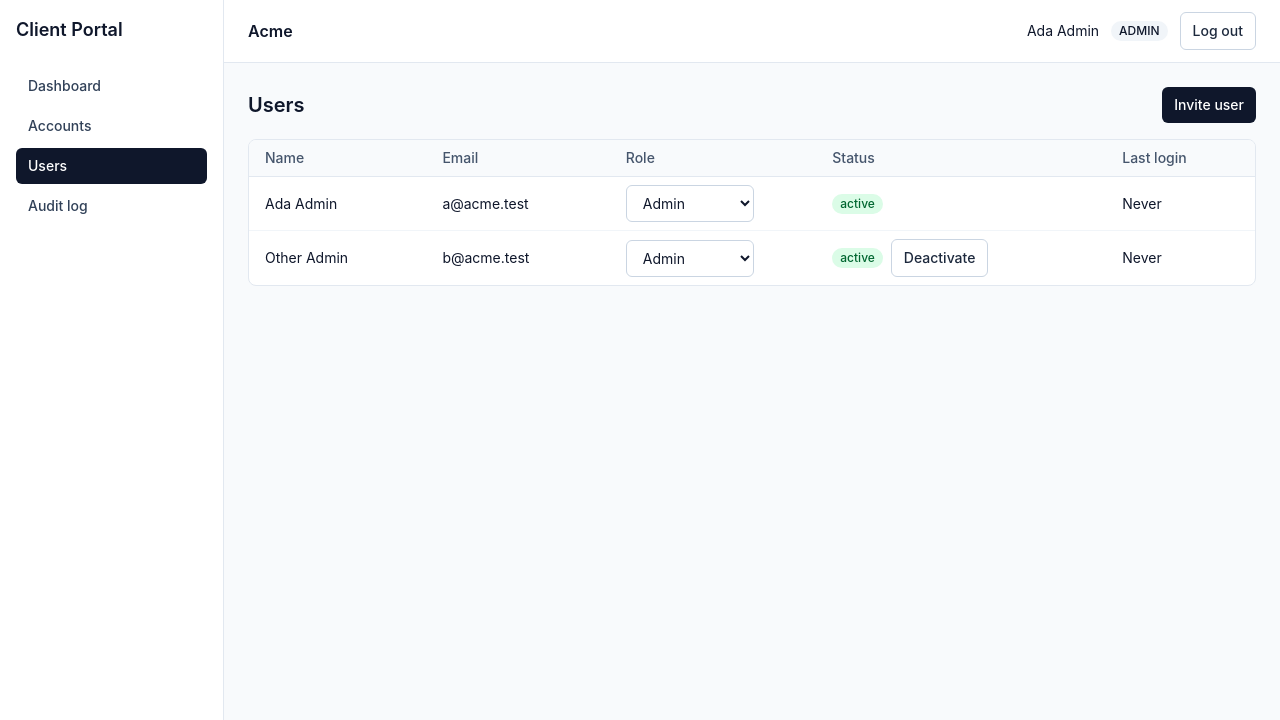
Test: role refresh › an admin who makes themselves a member ends on not-found with the member badge
The width and height of the screenshot is (1280, 720).
Expected: the heading "Users" is shown, [248,91,304,119]
Expected: the text "admin" is shown, [1111,21,1168,41]
Select "Member" in the dropdown named "Role for Ada Admin": (690, 204) [626,185,754,222]
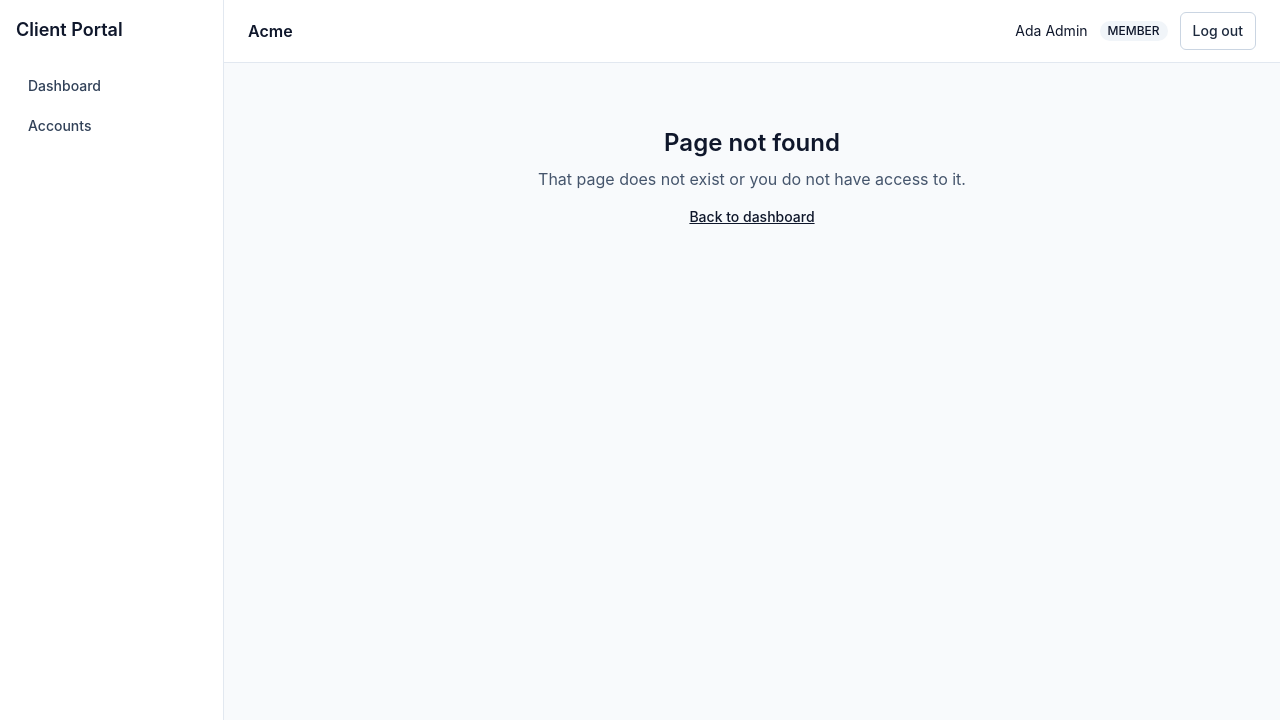
Expected: the heading "Page not found" is shown, [664,128,840,157]
Expected: the link "Users" is gone
Expected: the text "member" is shown, [1100,21,1168,41]
